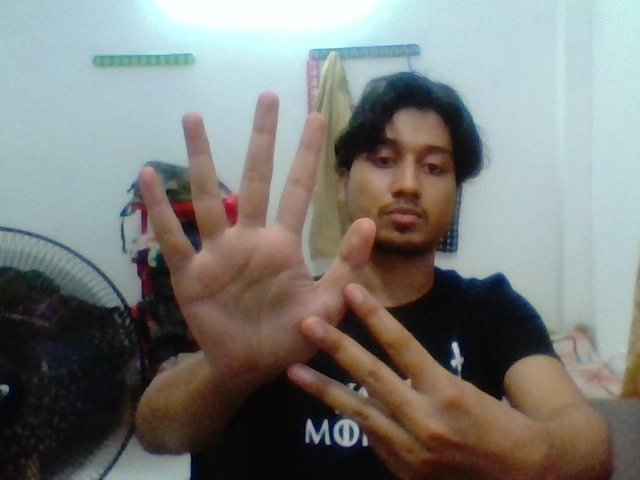M: (97, 94, 452, 440)
